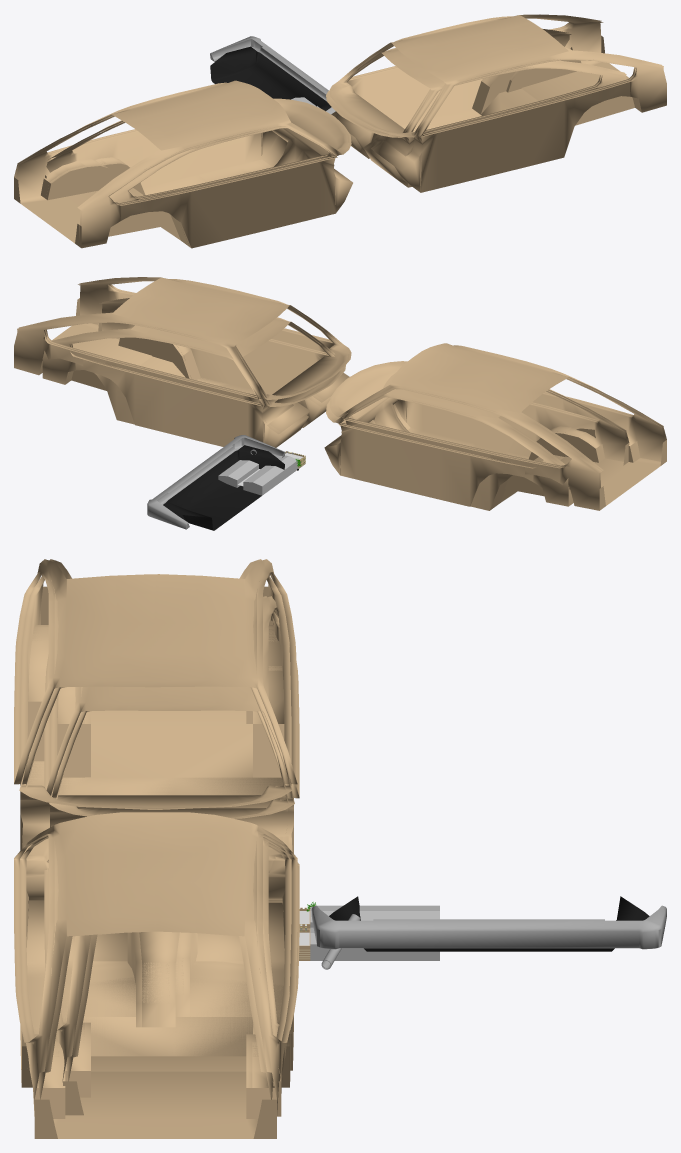
File: museoo.glb
3 renders of one model, top to bottom at view 1: azimuth 30°, elevation 25°; view 2: azimuth 150°, elevation 25°; view 3: azimuth 270°, elevation 25°, orthographic. The views are drawn at different scales.
Parts seen in each view (by area): view 1: G-.031, G-.026, G-.024, G-.022, G-.027, Group#39, G-.032, G-.023, G-.025; view 2: G-.025, G-.023, G-.024, G-.022, G-.026, G-.031, Group#39, G-.027, G-.032, G-Group#909, G-Group#910; view 3: G-.026, G-.022, G-.031, G-.032, G-.024, G-.023, Group#39, G-.027, G-.025, G-Group#909, G-Group#910.
Part boxes in pixels (x1,y1,x2,y2): G-.031: (16, 86, 352, 248); G-.026: (331, 15, 666, 192); G-.024: (14, 80, 349, 246); G-.022: (329, 14, 662, 149); G-.027: (328, 30, 626, 187); Group#39: (210, 36, 335, 114); G-.032: (45, 121, 329, 203); G-.023: (326, 29, 624, 161); G-.025: (48, 120, 328, 197); G-.025: (324, 372, 627, 506); G-.023: (42, 299, 342, 447); G-.024: (328, 348, 665, 510); G-.022: (14, 278, 349, 434); G-.026: (19, 277, 351, 432); G-.031: (330, 343, 666, 506); Group#39: (147, 435, 285, 530); G-.027: (52, 298, 345, 447); G-.032: (326, 374, 629, 502); G-Group#909: (243, 455, 298, 495); G-Group#910: (218, 460, 258, 487); G-.026: (14, 812, 291, 1138); G-.022: (20, 812, 297, 1138); G-.031: (14, 559, 291, 850); G-.032: (44, 596, 292, 836); G-.024: (20, 559, 297, 847); G-.023: (58, 836, 299, 1116); Group#39: (311, 896, 666, 951); G-.027: (44, 844, 288, 1115); G-.025: (50, 596, 299, 853); G-Group#909: (310, 905, 439, 927); G-Group#910: (310, 927, 439, 960).
Size of the model in its own units: 570 by 90.6 by 306.
